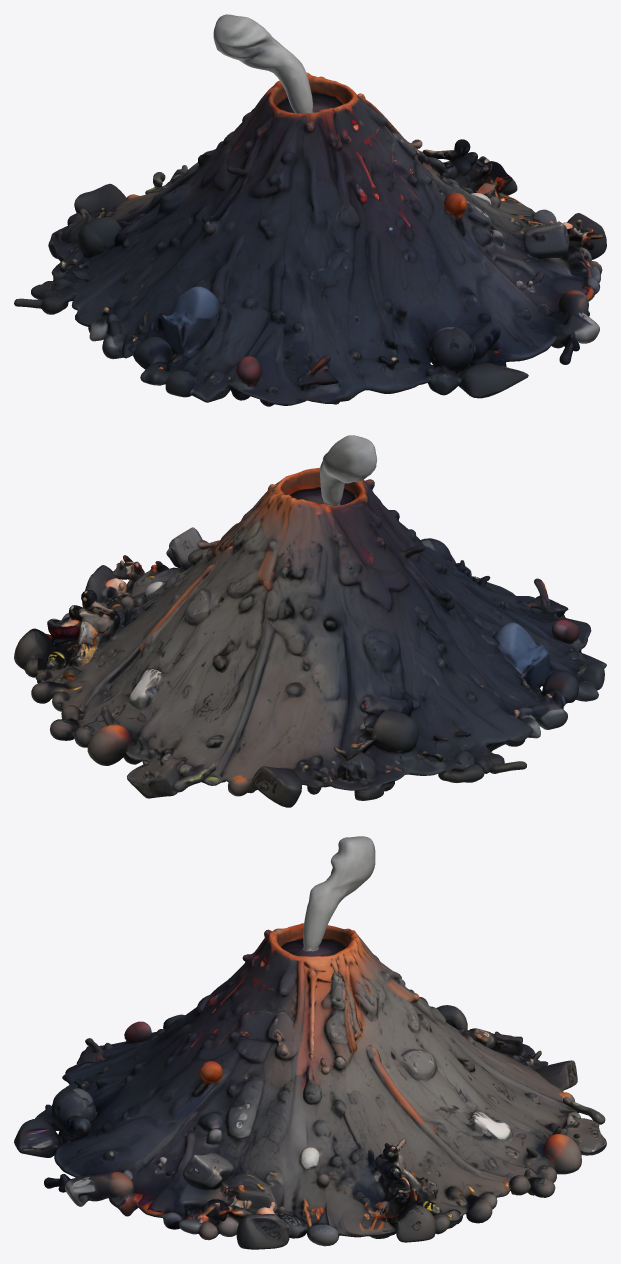
The model's file is nature-volcano-small.glb.
3 renders of one model, top to bottom at view 1: azimuth 30°, elevation 25°; view 2: azimuth 150°, elevation 25°; view 3: azimuth 270°, elevation 25°, orthographic. The views are drawn at different scales.
Visible parts, largest first — view 1: tripo_node_6b3f3967-a5c2-4537-992e-5bc6fdc400ee; view 2: tripo_node_6b3f3967-a5c2-4537-992e-5bc6fdc400ee; view 3: tripo_node_6b3f3967-a5c2-4537-992e-5bc6fdc400ee.
Boxes of the visible parts, left/top/right/bottom form: tripo_node_6b3f3967-a5c2-4537-992e-5bc6fdc400ee: left=14, top=14, right=606, bottom=406; tripo_node_6b3f3967-a5c2-4537-992e-5bc6fdc400ee: left=14, top=435, right=606, bottom=807; tripo_node_6b3f3967-a5c2-4537-992e-5bc6fdc400ee: left=14, top=836, right=606, bottom=1249.
Bounding box in the file's own units: 22.66 × 12 × 23.28.
1 material, 1 textured.
